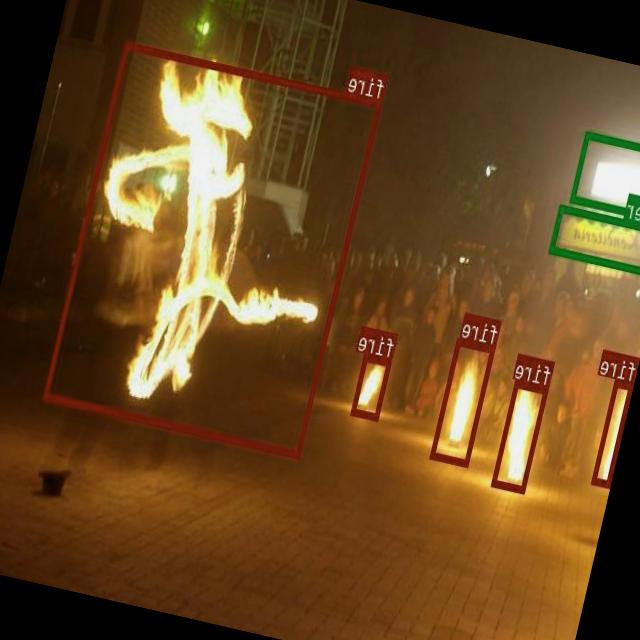fire: (44, 40, 382, 458), (431, 336, 496, 466), (492, 379, 550, 493), (592, 378, 634, 486), (351, 352, 392, 420)
